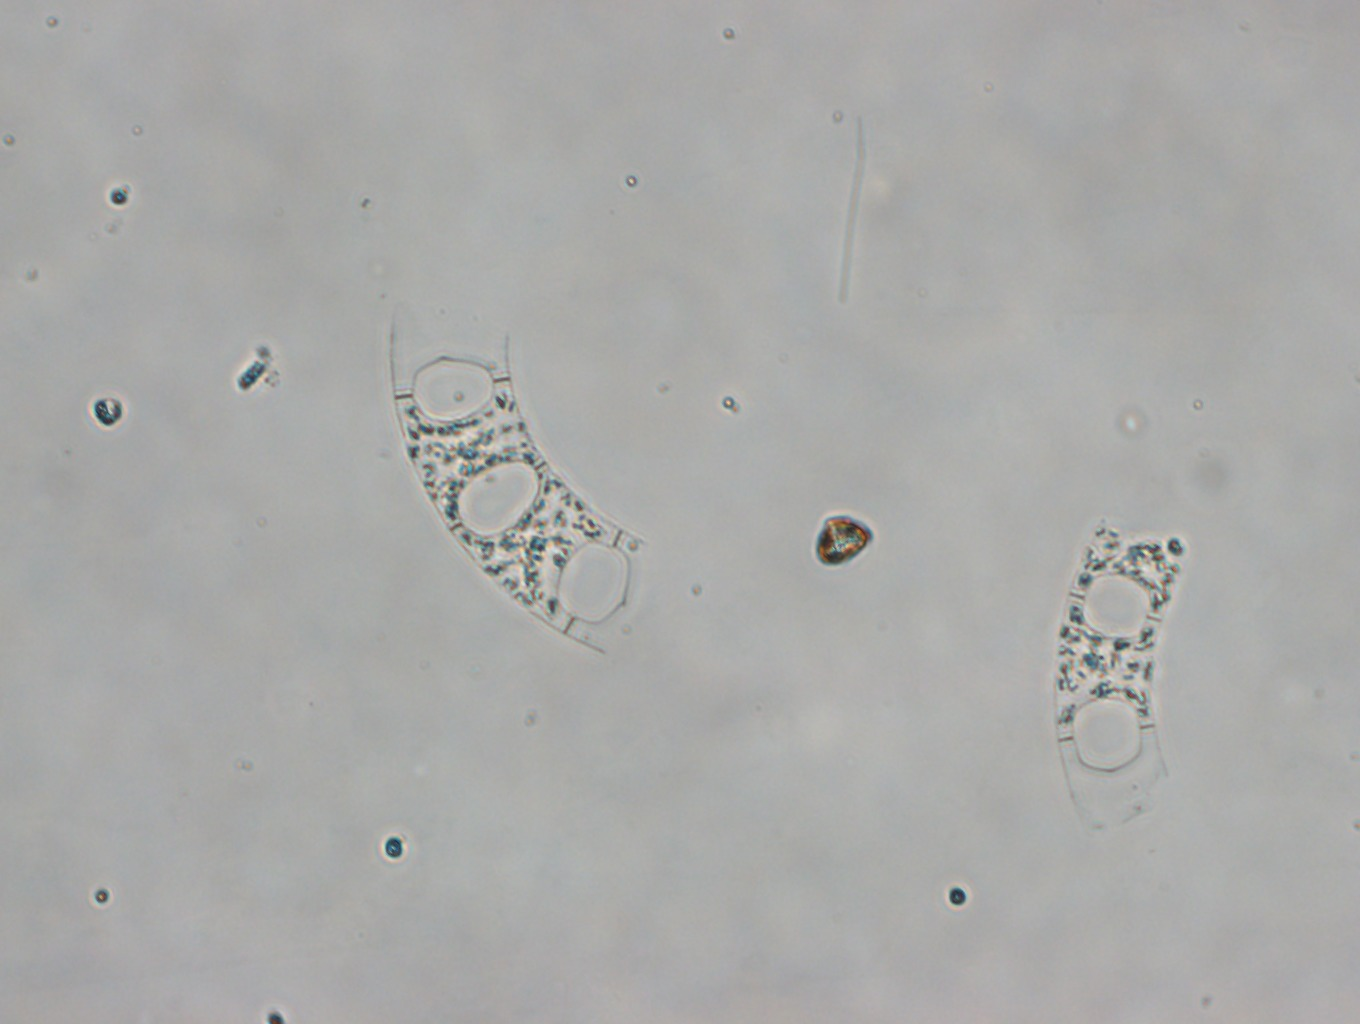eucampia: (391, 319, 652, 655), (1051, 514, 1190, 834)
